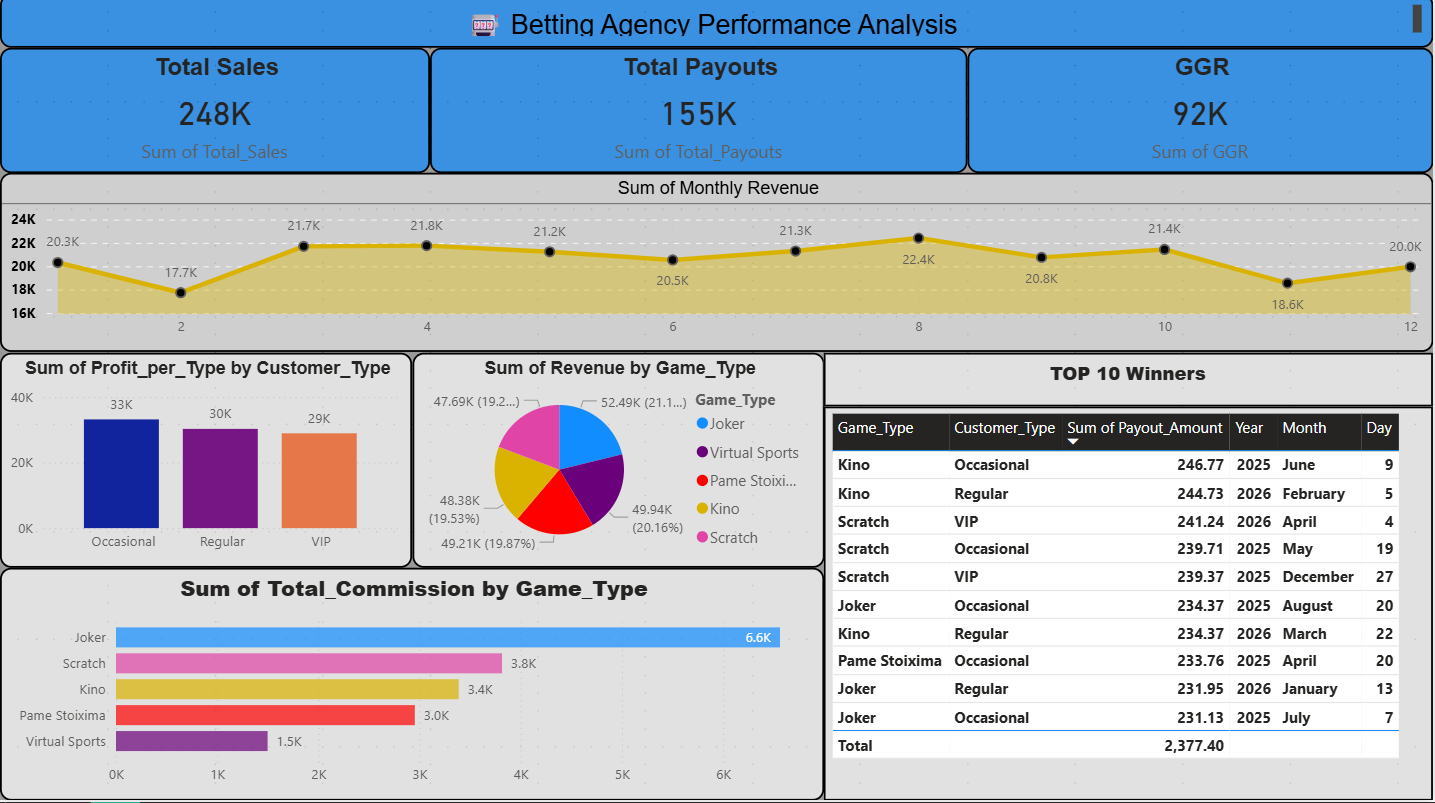

What the dashboard file says about the page in this screenshot:
{"tool":"powerbi","page":{"name":"Main","canvas":[1280,720],"ordinal":0},"visuals":[{"type":"card","title":"Total Sales","fields":{"Values":["Sum(total_sales_payouts_ggr.Total_Sales)"]},"box":[0,48,384,112],"z":0},{"type":"card","title":"Total Payouts","fields":{"Values":["Sum(total_sales_payouts_ggr.Total_Payouts)"]},"box":[384,48,480,112],"z":1000},{"type":"card","title":"GGR","fields":{"Values":["Sum(total_sales_payouts_ggr.GGR)"]},"box":[864,48,416,112],"z":2000},{"type":"lineChart","title":"Sum of Monthly Revenue","fields":{"Category":["monthly_revenue.Month"],"Y":["Sum(monthly_revenue.Monthly_Revenue)"]},"box":[0,160,1280,160],"z":3000},{"type":"textbox","box":[0,0,1280,48],"z":4000},{"type":"clusteredColumnChart","fields":{"Category":["profit_per_customer_type.Customer_Type"],"Y":["Sum(profit_per_customer_type.Profit_per_Type)"]},"box":[0,320,368,192],"z":5000},{"type":"pieChart","fields":{"Y":["Sum(ggr_per_game.Revenue)"],"Category":["ggr_per_game.Game_Type"]},"box":[368,320,368,192],"z":6000},{"type":"textbox","box":[736,320,544,48],"z":6001},{"type":"tableEx","fields":{"Values":["big_winners.Game_Type","big_winners.Customer_Type","Sum(big_winners.Payout_Amount)","big_winners.Date.Variation.Date Hierarchy.Year","big_winners.Date.Variation.Date Hierarchy.Month","big_winners.Date.Variation.Date Hierarchy.Day"]},"box":[736,368,544,352],"z":6002},{"type":"clusteredBarChart","fields":{"Y":["Sum(commisions.Total_Commission)"],"Category":["commisions.Game_Type"]},"box":[0,512,736,208],"z":6003}]}

Visuals, with their boxes in screenshot pixels (x1, y1, x2, y2), scaled from the page's 1280x720 canvas onto the 1435x803 screenshot:
"Total Sales" card: 0, 54, 430, 178
"Total Payouts" card: 430, 54, 969, 178
"GGR" card: 969, 54, 1434, 178
"Sum of Monthly Revenue" lineChart: 0, 178, 1434, 357
textbox: 0, 0, 1434, 54
clusteredColumnChart - profit_per_customer_type.Customer_Type x Sum(profit_per_customer_type.Profit_per_Type): 0, 357, 413, 571
pieChart - Sum(ggr_per_game.Revenue) x ggr_per_game.Game_Type: 413, 357, 825, 571
textbox: 825, 357, 1434, 410
tableEx - big_winners.Game_Type x big_winners.Customer_Type: 825, 410, 1434, 802
clusteredBarChart - Sum(commisions.Total_Commission) x commisions.Game_Type: 0, 571, 825, 802
